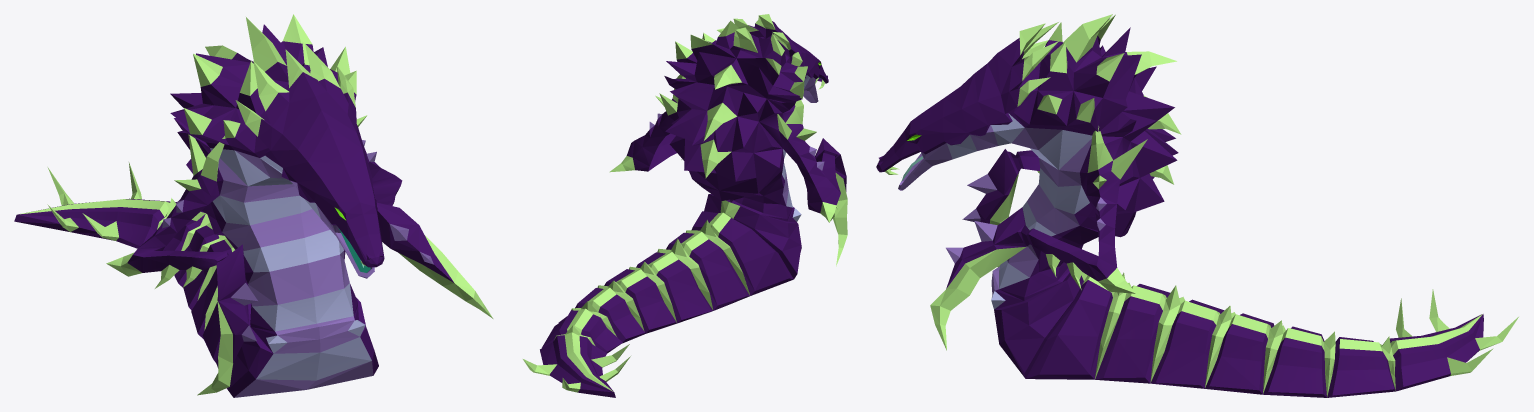
Rendered from Walk (18).obj.
The picture shows the model from 3 angles, left to right: view 1: azimuth 30°, elevation 25°; view 2: azimuth 150°, elevation 25°; view 3: azimuth 270°, elevation 25°; orthographic projection. The views are drawn at different scales.
Parts seen in each view (by area): view 1: Alien_Serpent; view 2: Alien_Serpent; view 3: Alien_Serpent.
Part boxes in pixels (x1=…): Alien_Serpent: x1=14, y1=14, x2=493, y2=397; Alien_Serpent: x1=523, y1=14, x2=847, y2=397; Alien_Serpent: x1=876, y1=14, x2=1518, y2=397.
Size of the model in its own units: 189 by 214 by 378.
1 material, 1 textured.
